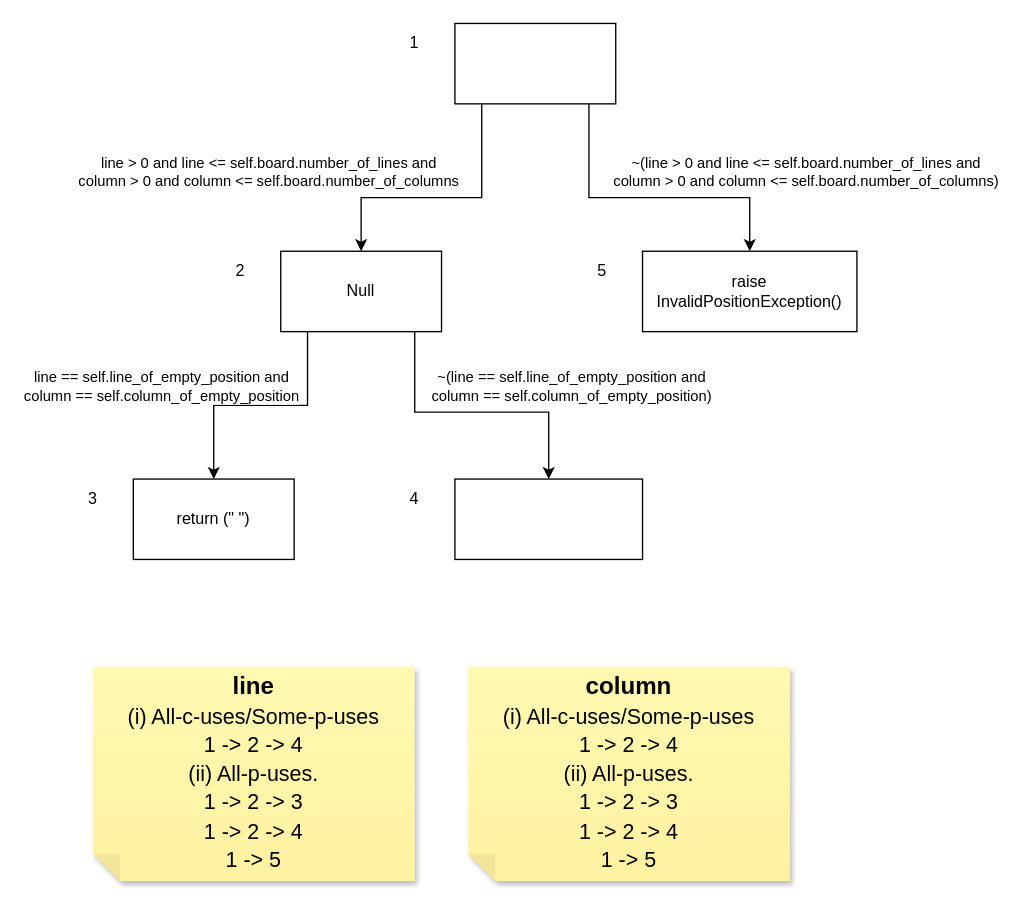
This 1021x914 diagram has some shape labels left out. The centre of each missing label's shape, as x and y in pixels:
"Init: self, line, column" goes at point (535, 63).
"return self.board.get_tile(line, column)" goes at point (548, 518).
